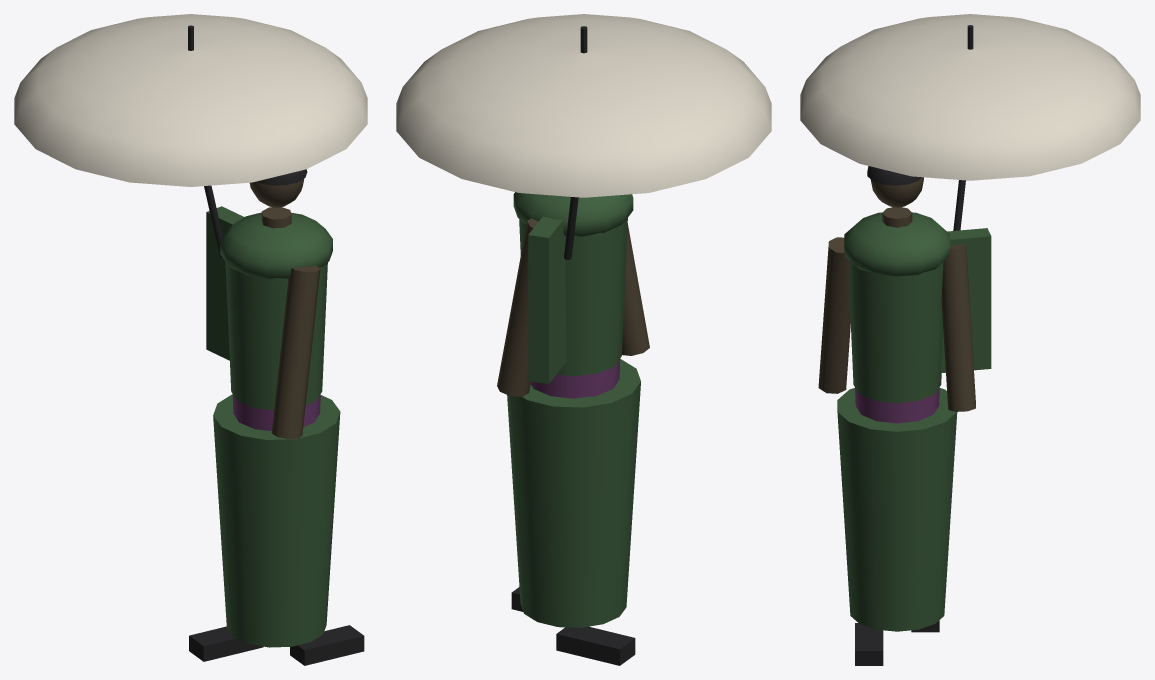
Rendered from KIT_FIGURE_4.glb.
3 renders of one model, left to right at view 1: azimuth 30°, elevation 25°; view 2: azimuth 150°, elevation 25°; view 3: azimuth 270°, elevation 25°, orthographic. The views are drawn at different scales.
Parts seen in each view (by area): view 1: KIT_FIGURE_4; view 2: KIT_FIGURE_4; view 3: KIT_FIGURE_4.
Part boxes in pixels (box(x1,y1,x2,y2)): KIT_FIGURE_4: box(14, 14, 367, 665); KIT_FIGURE_4: box(396, 14, 771, 665); KIT_FIGURE_4: box(800, 14, 1140, 665).
Size of the model in its own units: 1.04 by 1.95 by 1.02.
